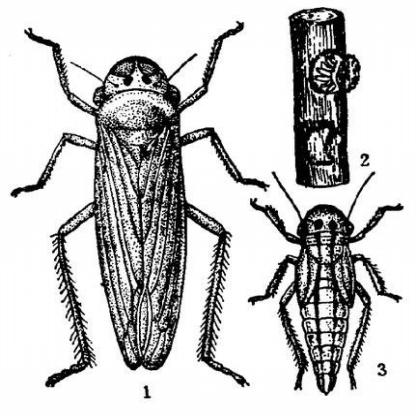Green-Leafhopper: (14, 21, 272, 389), (239, 176, 394, 390)
